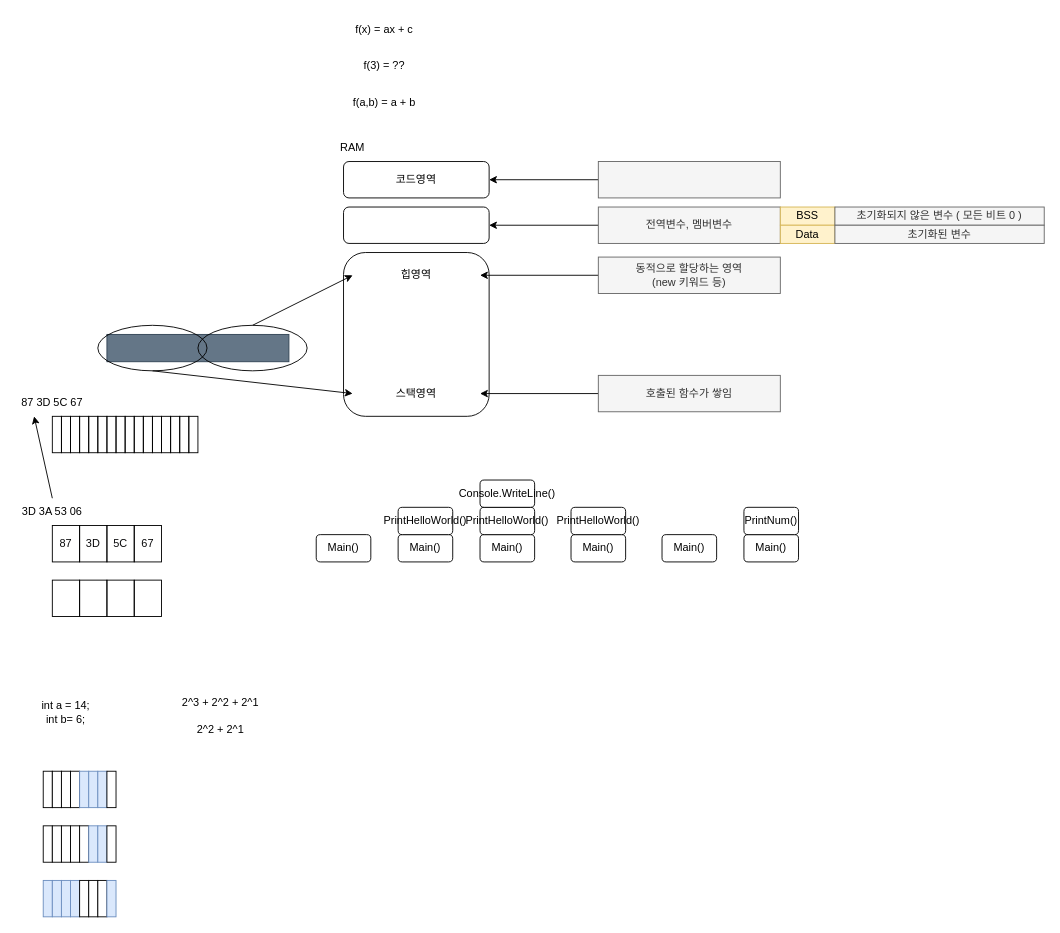
The diagram is 1060 pixels wide and 933 high, and some of its shapes have lost their labels. Each missing label, with the centre of its shape:
Human human1 = new Human ();: (197,348)
데이터영역: (416,224)
작성한 소스코드가 컴파일되어 기계어로 번역된 코드: (688,179)
